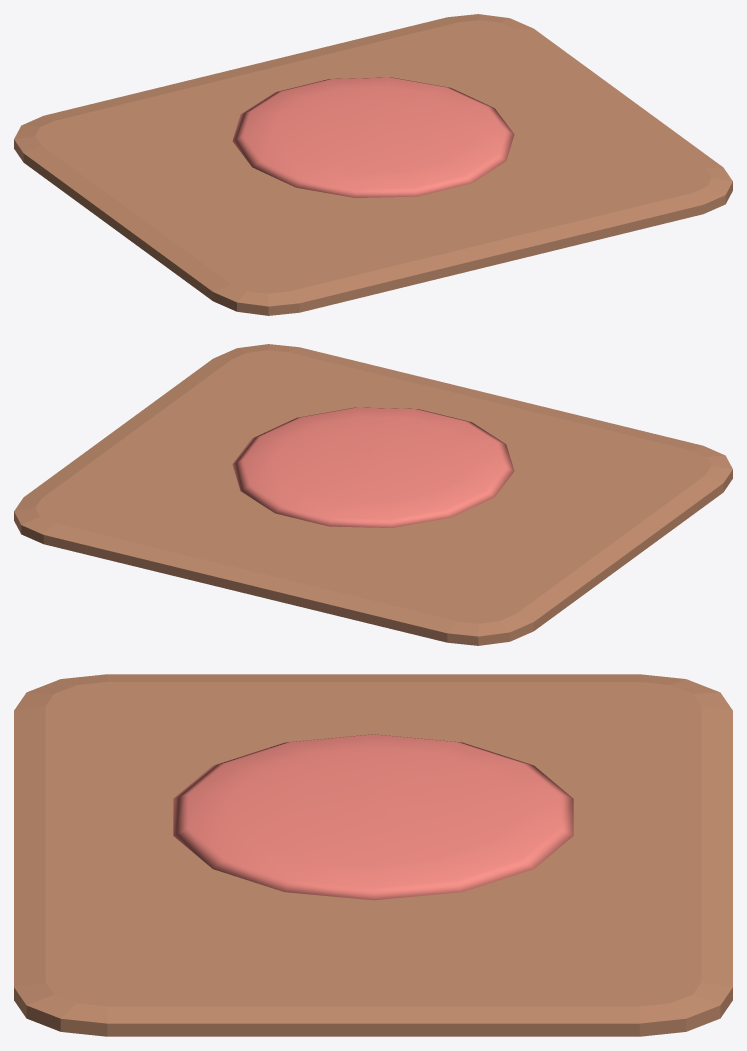
Rendered from item_stamp.glb.
3 renders of one model, top to bottom at view 1: azimuth 30°, elevation 25°; view 2: azimuth 150°, elevation 25°; view 3: azimuth 270°, elevation 25°, orthographic. The views are drawn at different scales.
Parts seen in each view (by area): view 1: model; view 2: model; view 3: model.
Part boxes in pixels (x1,y1,x2,y2): model: [14, 14, 732, 315]; model: [14, 344, 732, 645]; model: [14, 674, 732, 1036].
Size of the model in its own units: 0.23 by 0.02 by 0.2.
